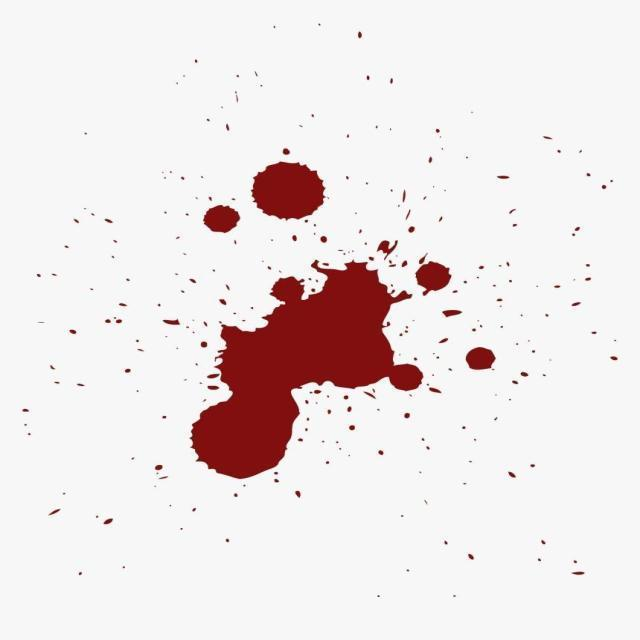flood: (175, 156, 513, 490)
